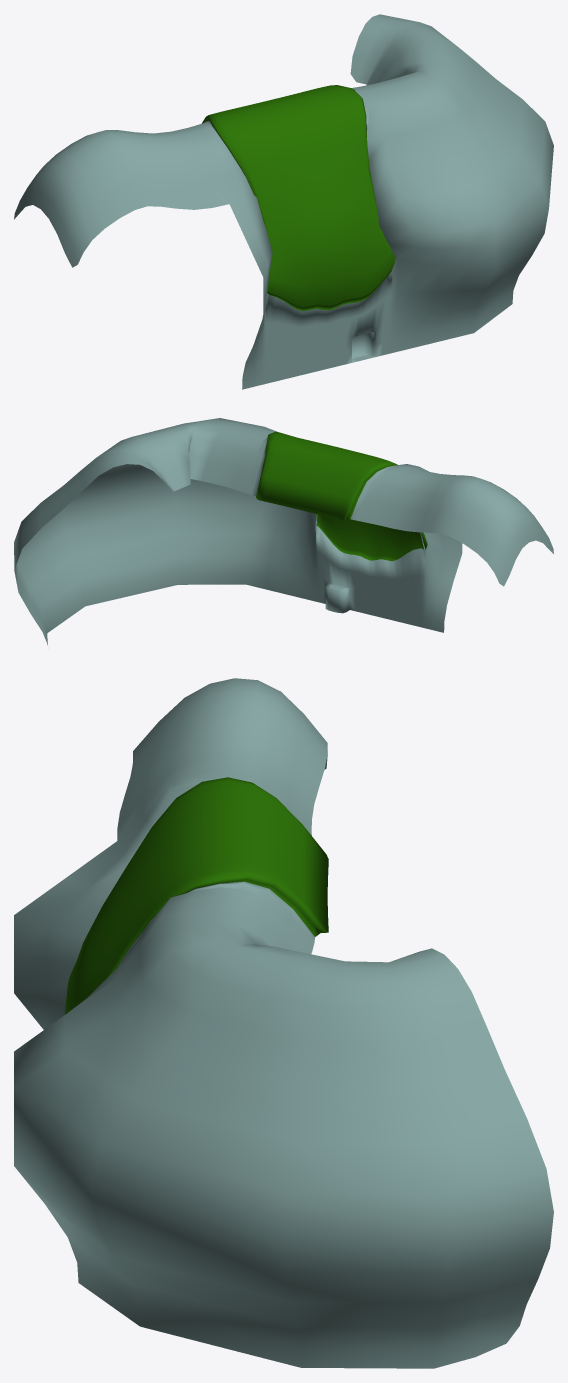
File: boss_wall.glb
The picture shows the model from 3 angles, top to bottom: view 1: azimuth 30°, elevation 25°; view 2: azimuth 150°, elevation 25°; view 3: azimuth 270°, elevation 25°; orthographic projection. The views are drawn at different scales.
Parts seen in each view (by area): view 1: BossDoor; view 2: BossDoor; view 3: BossDoor.
Part boxes in pixels (x1,y1,x2,y2): BossDoor: [14, 14, 553, 389]; BossDoor: [14, 418, 553, 645]; BossDoor: [14, 678, 553, 1368].
Bounding box in the file's own units: 43.47 × 18.53 × 25.1.
